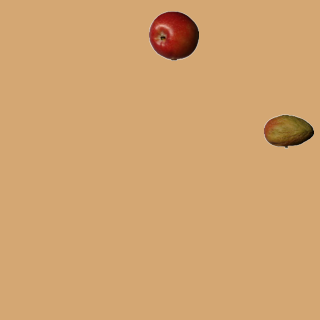Apple Braeburn: (148, 10, 198, 60)
Papaya: (263, 106, 313, 156)
